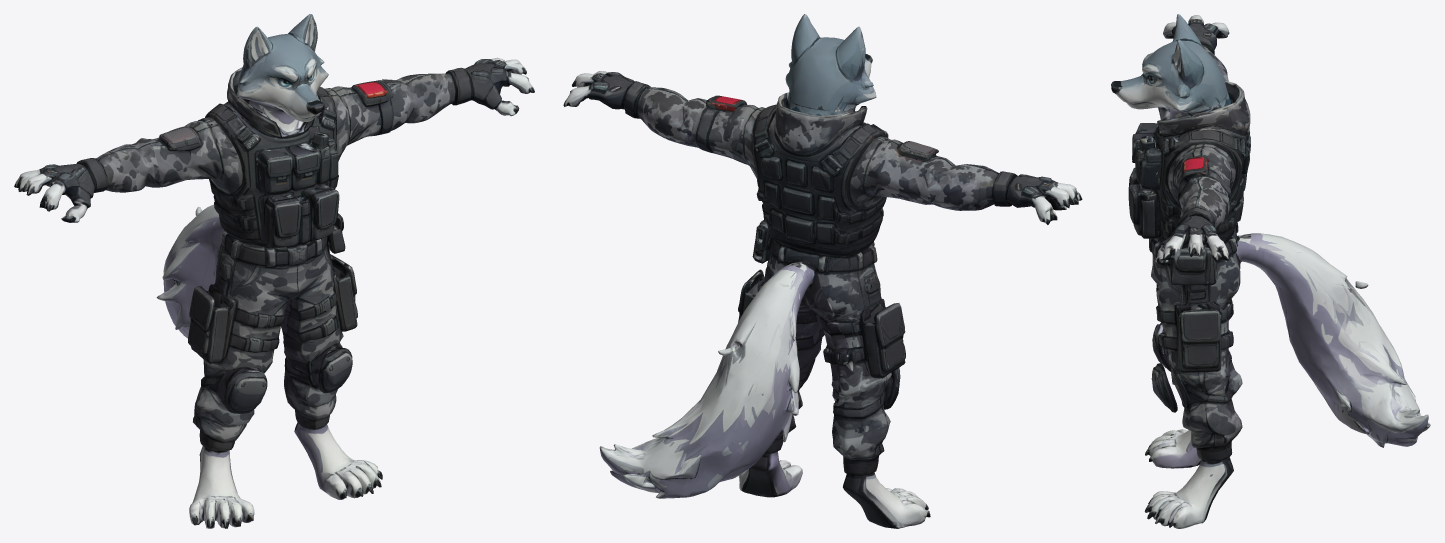
The model's file is WolfTPose.glb.
The picture shows the model from 3 angles, left to right: view 1: azimuth 30°, elevation 25°; view 2: azimuth 150°, elevation 25°; view 3: azimuth 270°, elevation 25°; orthographic projection. The views are drawn at different scales.
Parts seen in each view (by area): view 1: texture_mapping; view 2: texture_mapping; view 3: texture_mapping.
Part boxes in pixels (box(x1,y1,x2,y2)): texture_mapping: box(14, 14, 534, 528); texture_mapping: box(563, 14, 1082, 528); texture_mapping: box(1111, 14, 1430, 528).
Size of the model in its own units: 0.9985 by 0.927 by 0.5794.
Materials: 1 (1 with a texture image).
